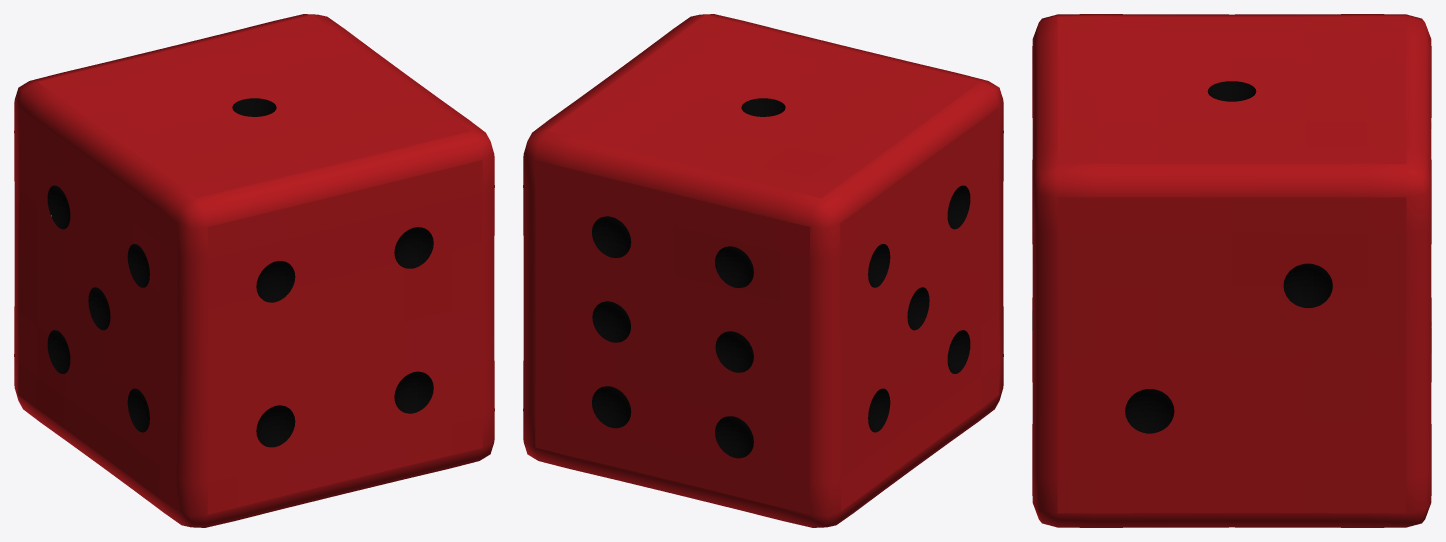
File: dice.fbx
3 views of the same model, side by side, from view 1: azimuth 30°, elevation 25°; view 2: azimuth 150°, elevation 25°; view 3: azimuth 270°, elevation 25° (orthographic). The views are drawn at different scales.
Visible parts, largest first — view 1: Cube.001; view 2: Cube.001; view 3: Cube.001.
Boxes of the visible parts, x1=… form: Cube.001: x1=14, y1=14, x2=494, y2=527; Cube.001: x1=523, y1=14, x2=1003, y2=527; Cube.001: x1=1032, y1=14, x2=1431, y2=527.
Size of the model in its own units: 184 by 184 by 184.
